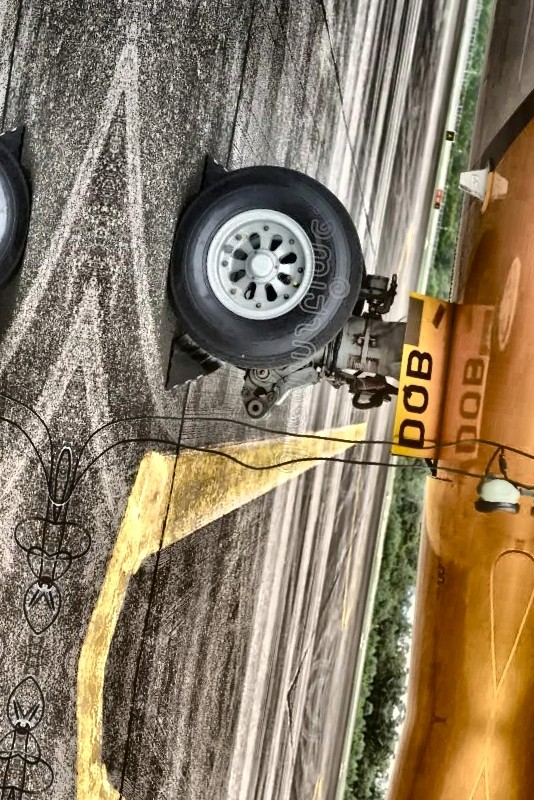chock: (164, 332, 229, 399)
wheel: (156, 155, 380, 390)
